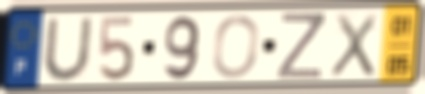5: (96, 14, 137, 84)
9: (162, 13, 203, 82)
O: (210, 13, 262, 81)
U: (41, 15, 96, 84)
X: (327, 11, 379, 80)
Z: (275, 11, 327, 82)
